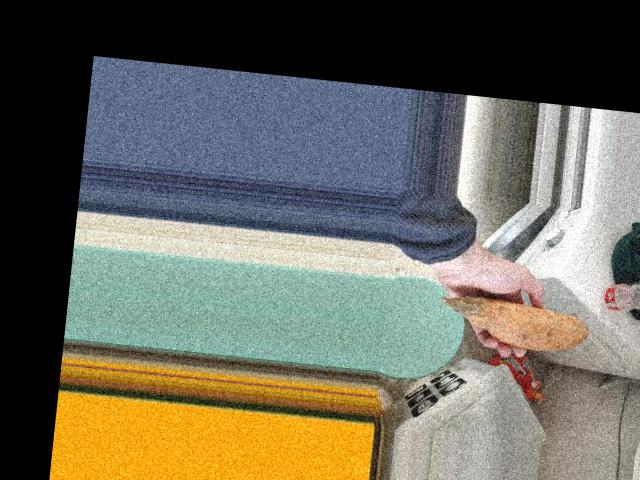sweet_potato: (421, 301, 583, 360)
